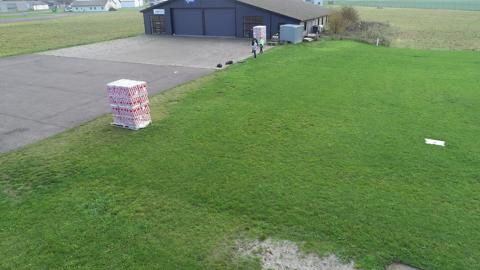RockwoolPallet: (107, 78, 152, 130)
